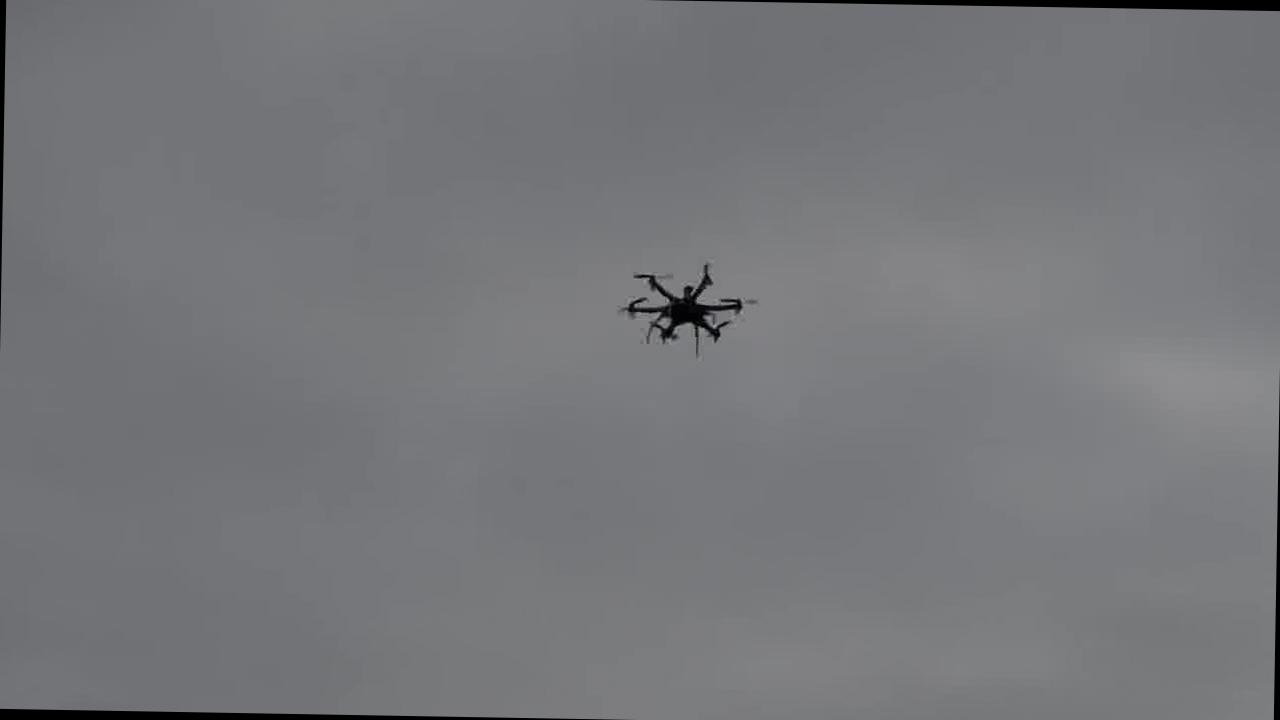drone: (621, 255, 751, 359)
